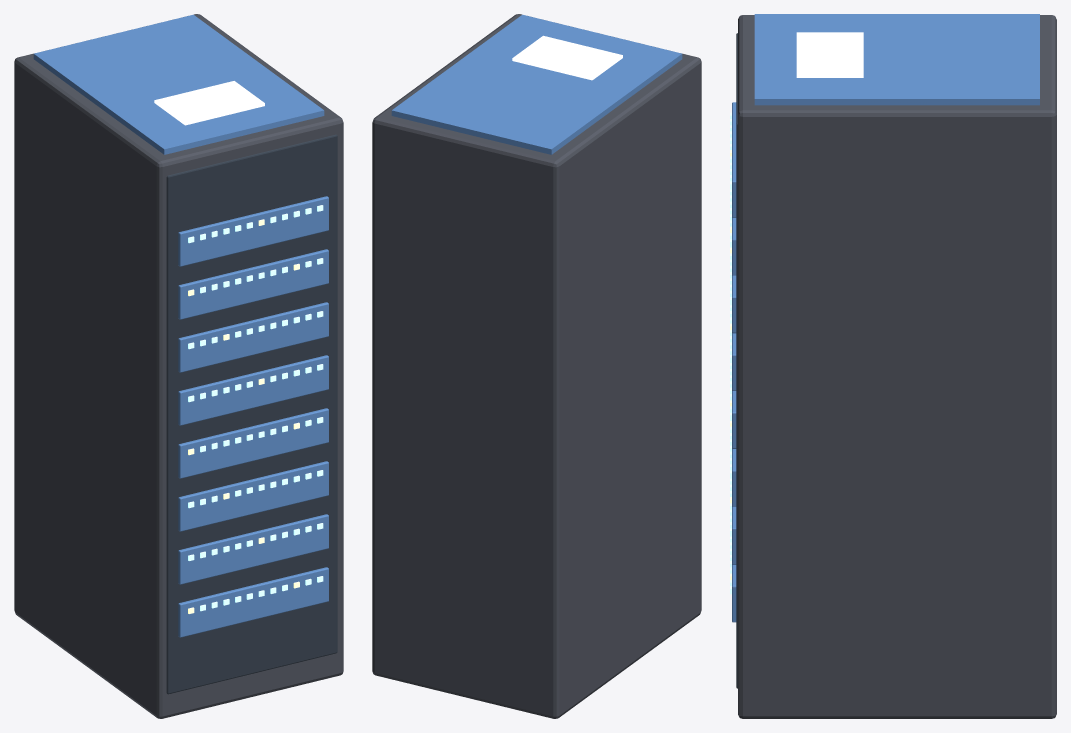
The model's file is core.fbx.
3 renders of one model, left to right at view 1: azimuth 30°, elevation 25°; view 2: azimuth 150°, elevation 25°; view 3: azimuth 270°, elevation 25°, orthographic. The views are drawn at different scales.
Visible parts, largest first — view 1: core; view 2: core; view 3: core.
Boxes of the visible parts, x1=… form: core: x1=14, y1=14, x2=343, y2=718; core: x1=372, y1=14, x2=701, y2=718; core: x1=730, y1=14, x2=1056, y2=718.
Size of the model in its own units: 0.7 by 2.03 by 0.973.
